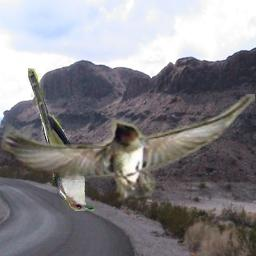Cuckoo: (28, 68, 94, 211)
Swallow: (0, 94, 255, 204)
Woodpecker: (101, 143, 147, 185)
